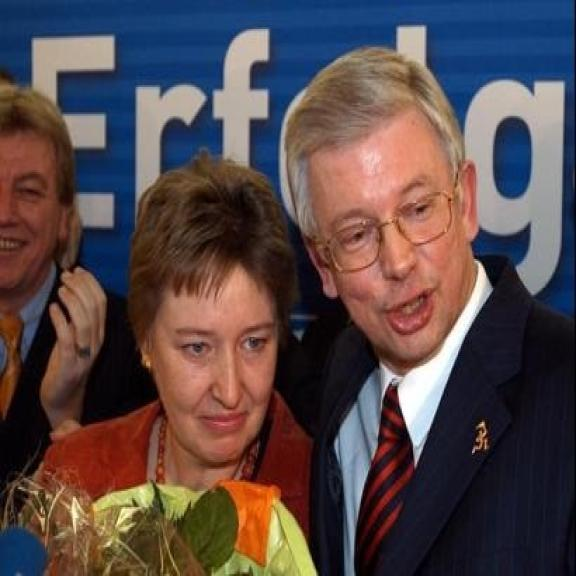face: (301, 86, 479, 368), (133, 225, 284, 470), (0, 101, 73, 292)
